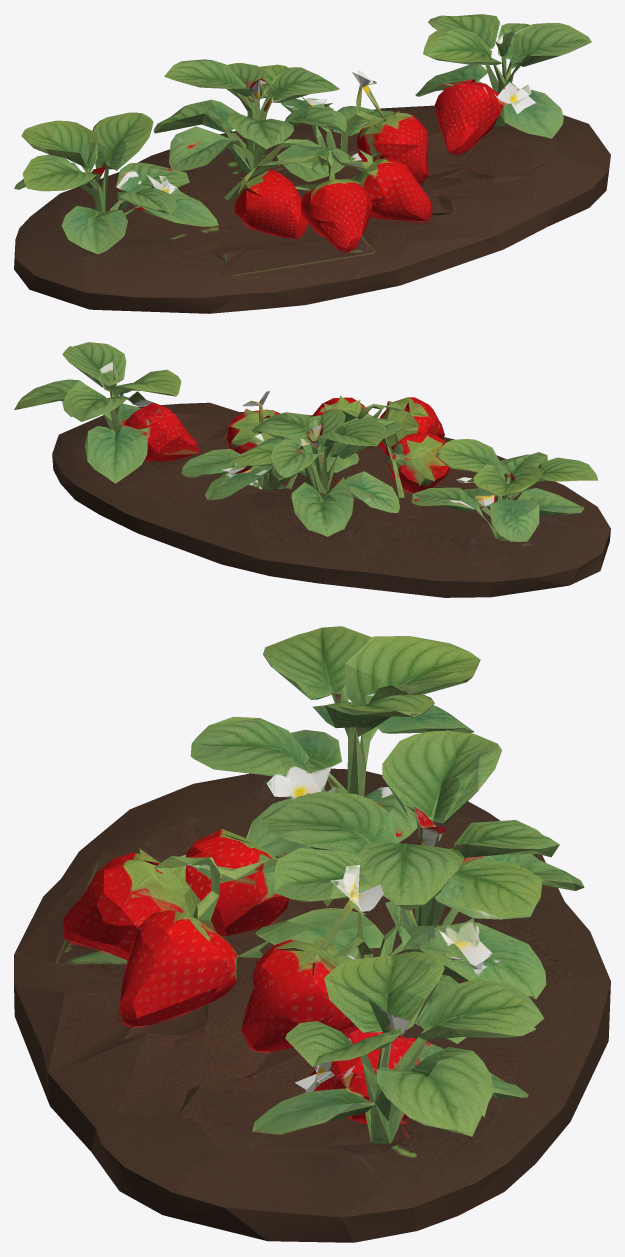
The model's file is strawberries.glb.
The picture shows the model from 3 angles, top to bottom: view 1: azimuth 30°, elevation 25°; view 2: azimuth 150°, elevation 25°; view 3: azimuth 270°, elevation 25°; orthographic projection. The views are drawn at different scales.
Bounding box in the file's own units: 1.9 × 0.4156 × 1.04.
1 material, 1 textured.
